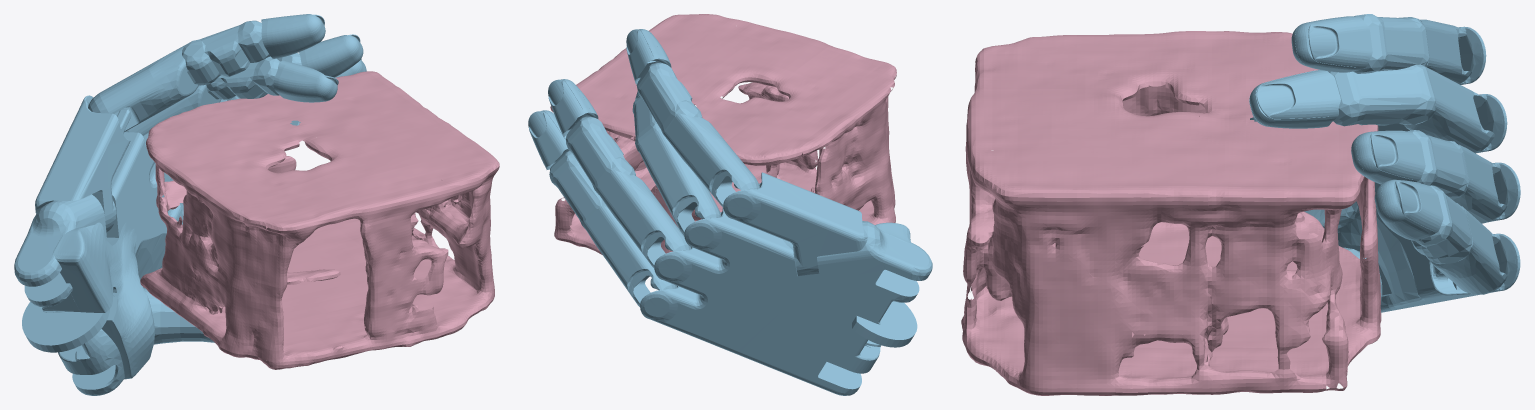
3 renders of one model, left to right at view 1: azimuth 30°, elevation 25°; view 2: azimuth 150°, elevation 25°; view 3: azimuth 270°, elevation 25°, orthographic. The views are drawn at different scales.
Visible parts, largest first — view 1: world, hand_isaac_q; view 2: hand_isaac_q, world; view 3: world, hand_isaac_q.
Part boxes in pixels (x1,y1,x2,y2): world: (140,71,499,369); hand_isaac_q: (14,14,366,395); hand_isaac_q: (528,29,932,395); world: (550,14,896,276); world: (961,31,1381,395); hand_isaac_q: (1249,14,1520,312).
Size of the model in its own units: 0.1908 by 0.1546 by 0.1751.
